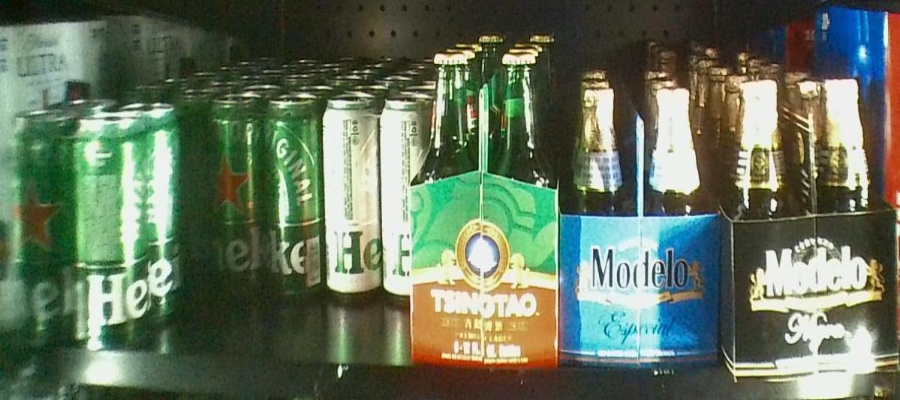bottle: (724, 77, 896, 374), (555, 86, 721, 368), (415, 47, 557, 367), (8, 111, 149, 346), (210, 89, 324, 293), (323, 94, 410, 301)
